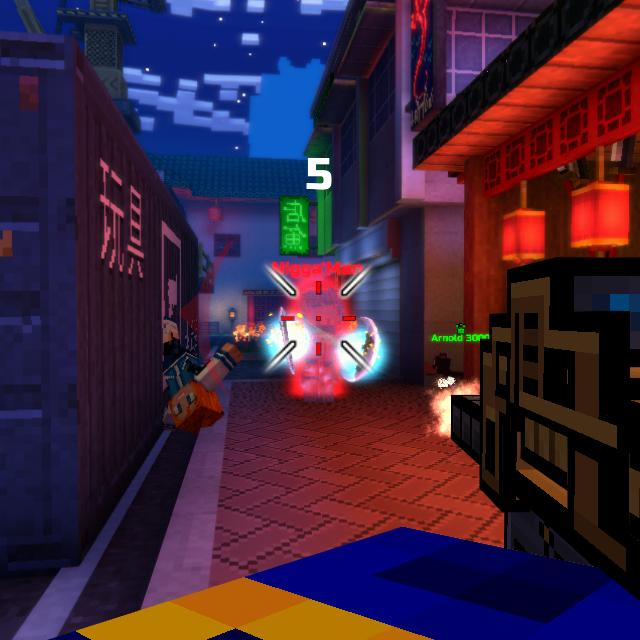Enemy: (290, 290, 354, 399)
